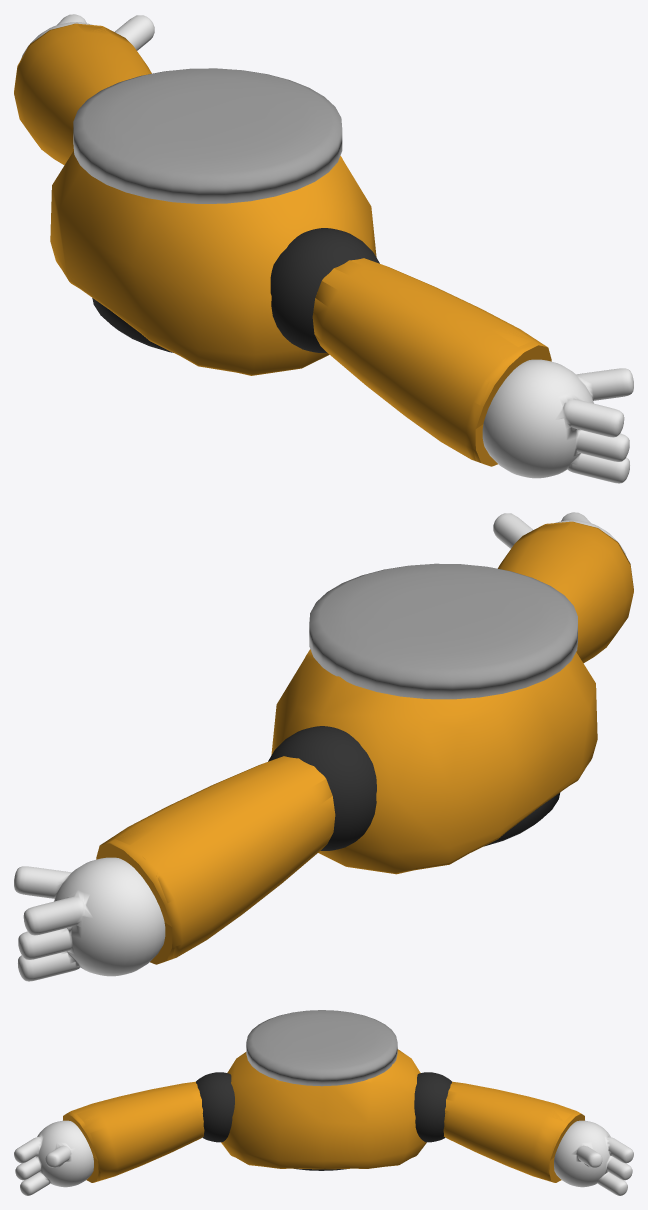
The model's file is torso.fbx.
The picture shows the model from 3 angles, top to bottom: view 1: azimuth 30°, elevation 25°; view 2: azimuth 150°, elevation 25°; view 3: azimuth 270°, elevation 25°; orthographic projection. The views are drawn at different scales.
Parts seen in each view (by area): view 1: Cylinder.002; view 2: Cylinder.002; view 3: Cylinder.002.
Part boxes in pixels (left/top/right/bottom): Cylinder.002: left=14, top=14, right=633, bottom=483; Cylinder.002: left=14, top=512, right=633, bottom=981; Cylinder.002: left=14, top=1010, right=633, bottom=1195.
Size of the model in its own units: 457 by 307 by 1443.
